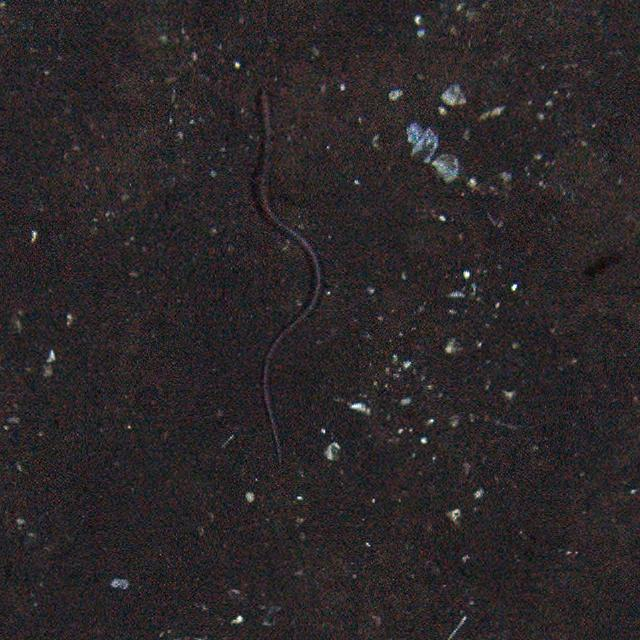eel: (250, 85, 326, 475)
